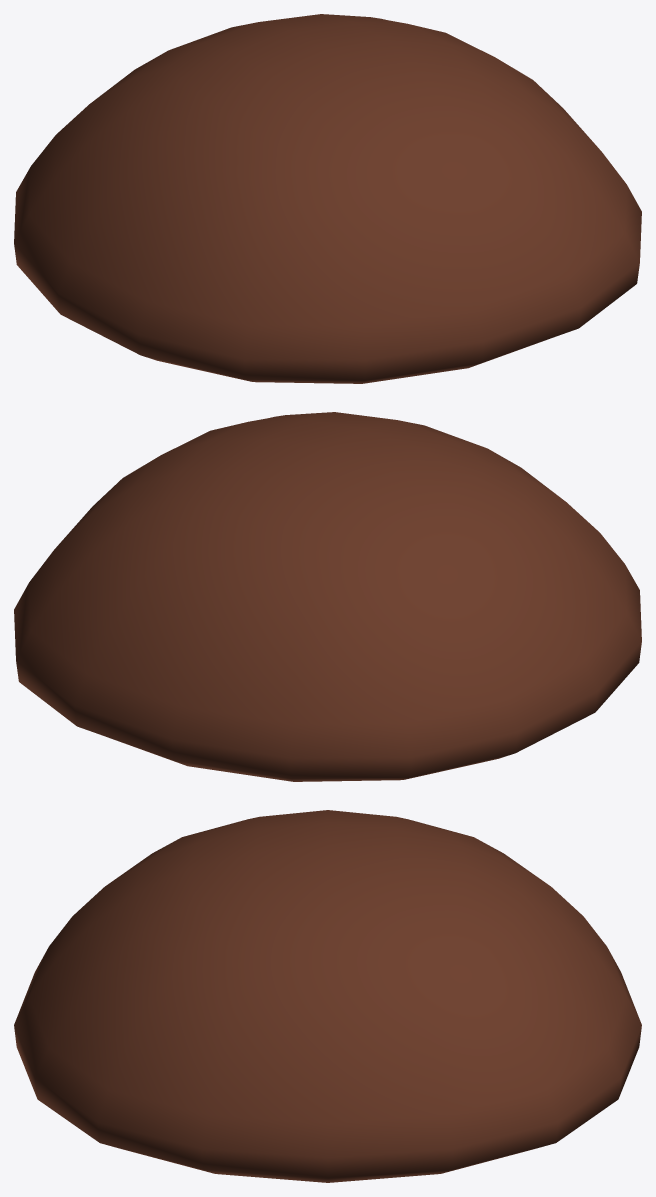
The model's file is FoodIngredient_UncookedRice.glb.
The picture shows the model from 3 angles, top to bottom: view 1: azimuth 30°, elevation 25°; view 2: azimuth 150°, elevation 25°; view 3: azimuth 270°, elevation 25°; orthographic projection.
Parts seen in each view (by area): view 1: FoodIngredient_Rice; view 2: FoodIngredient_Rice; view 3: FoodIngredient_Rice.
Part boxes in pixels (x1,y1,x2,y2): FoodIngredient_Rice: [14, 14, 641, 383]; FoodIngredient_Rice: [14, 412, 641, 781]; FoodIngredient_Rice: [14, 810, 641, 1182].
Size of the model in its own units: 1.08 by 0.4459 by 1.08.
